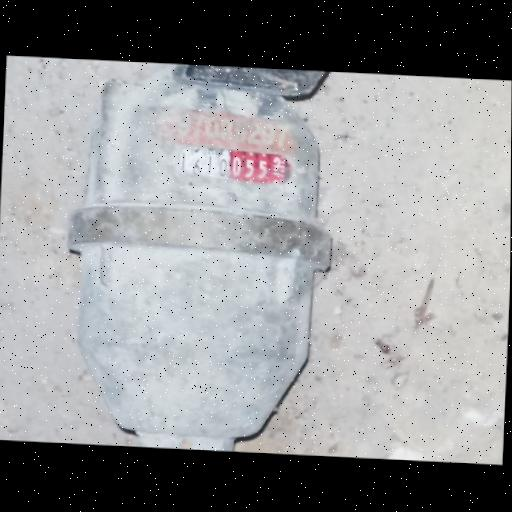0: (228, 150, 244, 180), (215, 149, 230, 177)
1: (203, 149, 217, 177), (177, 147, 188, 172)
2: (267, 153, 283, 184)
5: (255, 153, 269, 181), (244, 152, 257, 181)
6: (188, 148, 204, 176)
border_water_meter_number: (173, 143, 293, 186)
